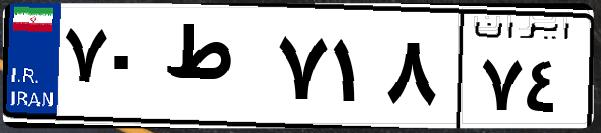0: (110, 28, 158, 98)
1: (330, 28, 385, 110)
4: (525, 38, 570, 115)
7: (270, 28, 330, 110), (57, 26, 110, 100), (475, 38, 525, 113)
8: (385, 28, 445, 110)
ط: (158, 20, 270, 120)
